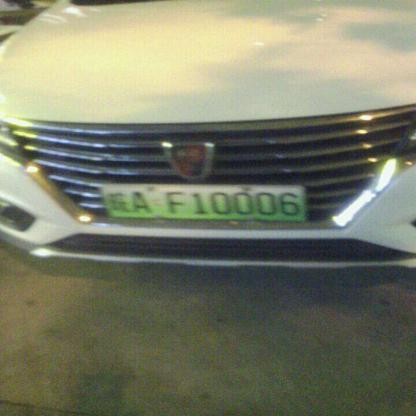lp: (98, 184, 308, 222)
